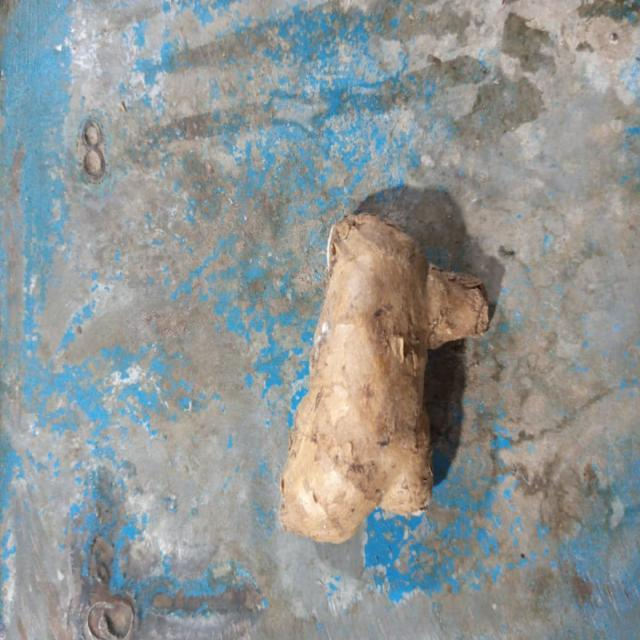ginger: (280, 212, 504, 542)
